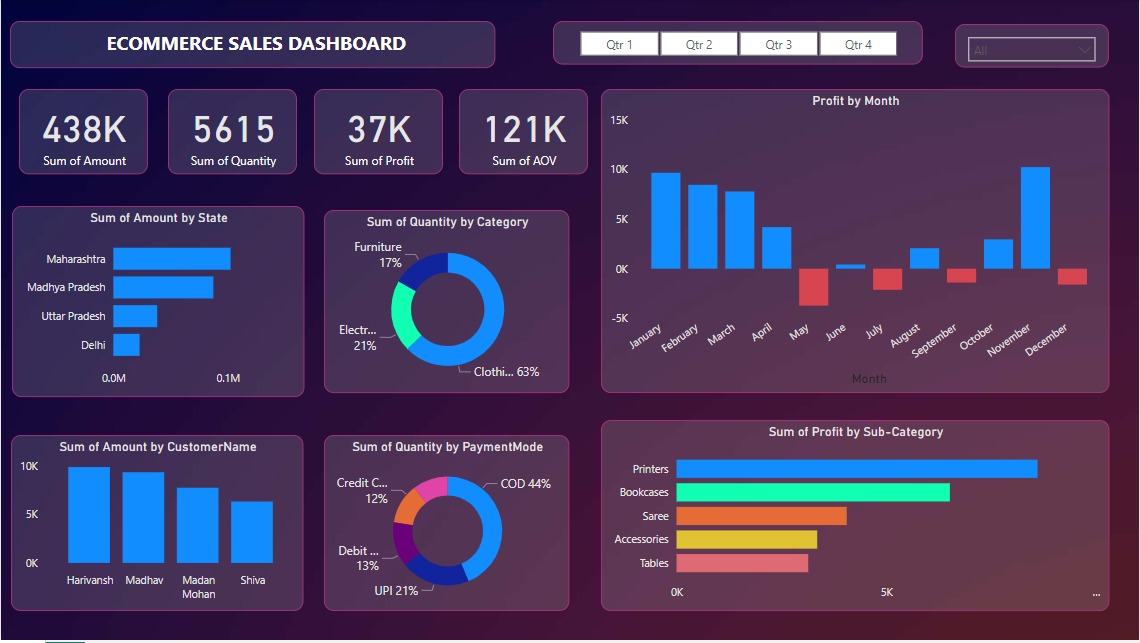

The page's visual inventory and layout, read from the dashboard file:
{"tool":"powerbi","page":{"name":"Page 1","canvas":[1280,720],"ordinal":0},"visuals":[{"type":"textbox","box":[10.3,23.1,546.2,52.7],"z":0},{"type":"columnChart","title":" Profit by Month","fields":{"Y":["Sum(Details.Profit)"],"Category":["Orders.Order Date.Variation.Date Hierarchy.Month"]},"box":[674.7,100.2,571.9,341.8],"z":1000},{"type":"barChart","fields":{"Category":["Details.Sub-Category"],"Y":["Sum(Details.Profit)"]},"box":[674.7,472.9,571.9,214.6],"z":2000},{"type":"donutChart","fields":{"Category":["Details.Category"],"Y":["Sum(Details.Quantity)"]},"box":[363.7,236.5,276.3,205.6],"z":3000},{"type":"donutChart","fields":{"Y":["Sum(Details.Quantity)"],"Category":["Details.PaymentMode"]},"box":[363.7,489.6,276.3,197.9],"z":4000},{"type":"card","fields":{"Values":["Sum(Details.Amount)"]},"box":[20.6,100.2,145.2,96.4],"z":5000},{"type":"card","fields":{"Values":["Sum(Details.Quantity)"]},"box":[187.6,100.2,145.2,96.4],"z":6000},{"type":"card","fields":{"Values":["Sum(Details.Profit)"]},"box":[352.1,100.2,145.2,96.4],"z":7000},{"type":"card","fields":{"Values":["Sum(Details.AOV)"]},"box":[515.3,100.2,145.2,96.4],"z":8000},{"type":"barChart","fields":{"Category":["Orders.State"],"Y":["Sum(Details.Amount)"]},"box":[12.9,231.3,329,214.6],"z":8001},{"type":"columnChart","fields":{"Category":["Orders.CustomerName"],"Y":["Sum(Details.Amount)"]},"box":[11.6,489.6,329,197.9],"z":8002},{"type":"slicer","fields":{"Values":["Orders.Order Date.Variation.Date Hierarchy.Quarter"]},"box":[620.7,23.1,416.4,48.8],"z":8003},{"type":"slicer","fields":{"Values":["Orders.State"]},"box":[1073.1,27,173.5,48.8],"z":8004}]}

Visuals, with their boxes in screenshot pixels (x1, y1, x2, y2), scaled from the page's 1280x720 canvas onto the 1140x643 screenshot:
textbox: (left=9, top=21, right=496, bottom=68)
" Profit by Month" columnChart: (left=601, top=89, right=1110, bottom=395)
barChart - Details.Sub-Category x Sum(Details.Profit): (left=601, top=422, right=1110, bottom=614)
donutChart - Details.Category x Sum(Details.Quantity): (left=324, top=211, right=570, bottom=395)
donutChart - Sum(Details.Quantity) x Details.PaymentMode: (left=324, top=437, right=570, bottom=614)
card - Sum(Details.Amount): (left=18, top=89, right=148, bottom=176)
card - Sum(Details.Quantity): (left=167, top=89, right=296, bottom=176)
card - Sum(Details.Profit): (left=314, top=89, right=443, bottom=176)
card - Sum(Details.AOV): (left=459, top=89, right=588, bottom=176)
barChart - Orders.State x Sum(Details.Amount): (left=11, top=207, right=305, bottom=398)
columnChart - Orders.CustomerName x Sum(Details.Amount): (left=10, top=437, right=303, bottom=614)
slicer - Orders.Order Date.Variation.Date Hierarchy.Quarter: (left=553, top=21, right=924, bottom=64)
slicer - Orders.State: (left=956, top=24, right=1110, bottom=68)
